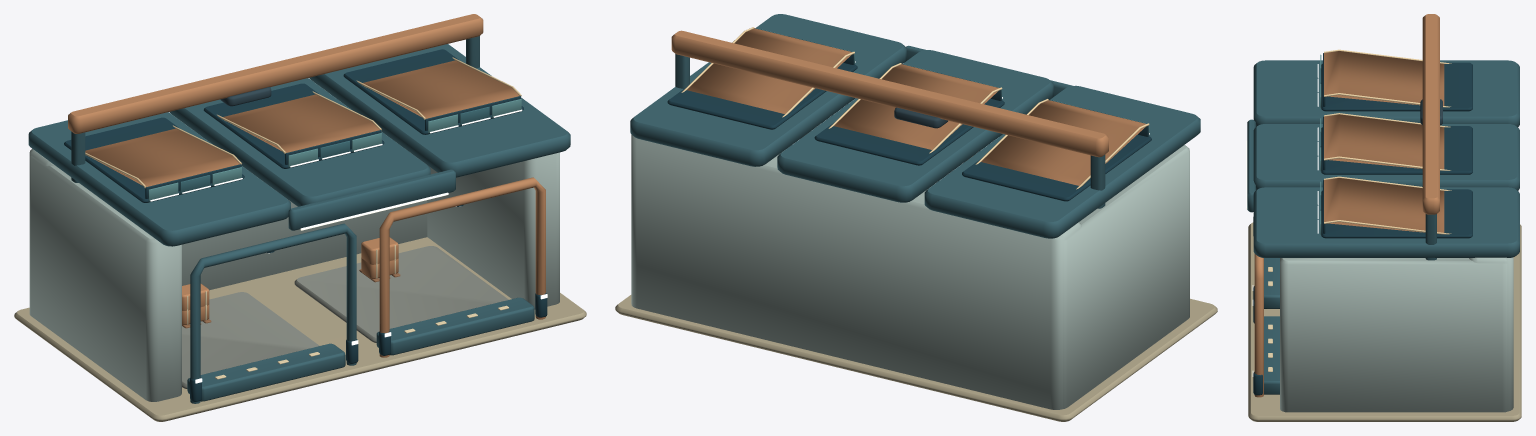
File: harbor_distribution.glb
3 views of the same model, side by side, from view 1: azimuth 30°, elevation 25°; view 2: azimuth 150°, elevation 25°; view 3: azimuth 270°, elevation 25° (orthographic). The views are drawn at different scales.
Parts seen in each view (by area): view 1: HarborDistribution; view 2: HarborDistribution; view 3: HarborDistribution.
Part boxes in pixels (<box>): HarborDistribution: <box>14,14,586,421</box>; HarborDistribution: <box>615,14,1217,421</box>; HarborDistribution: <box>1246,14,1521,421</box>.
Bounding box in the file's own units: 11.28 × 5.84 × 6.68.
